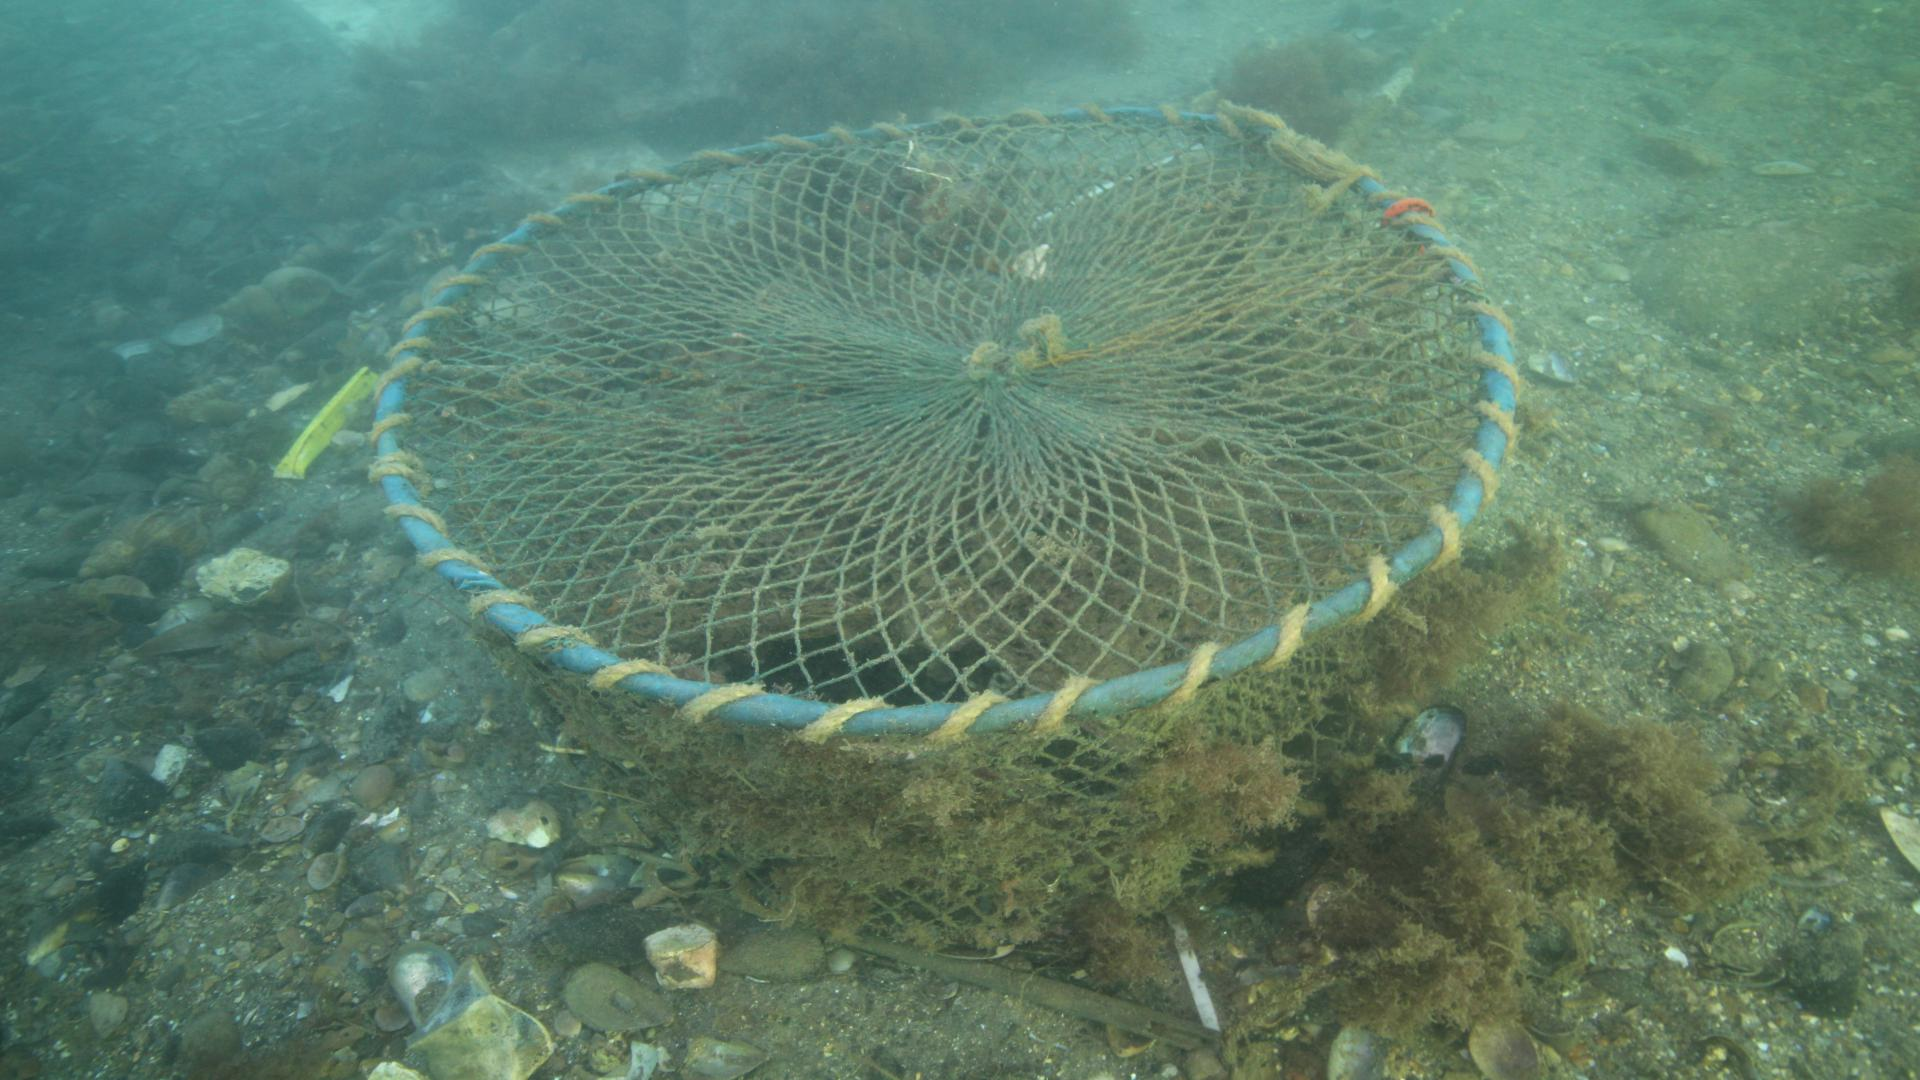circular fish trap: (364, 98, 1519, 949)
